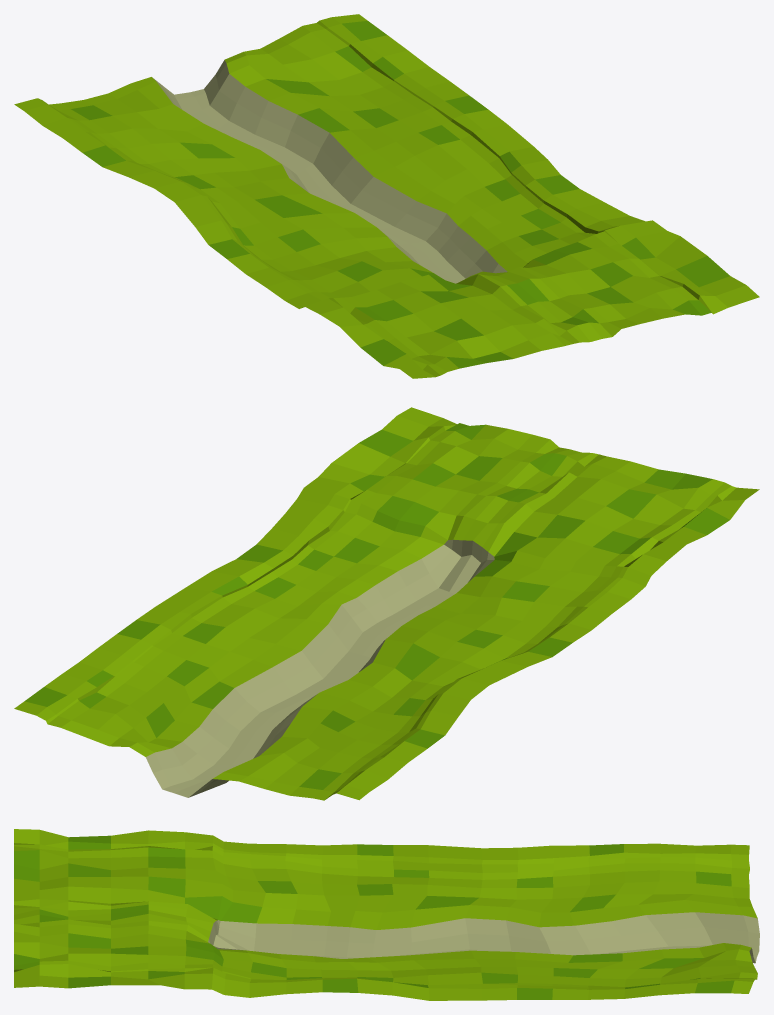
The model's file is TerrainEnd.fbx.
3 renders of one model, top to bottom at view 1: azimuth 30°, elevation 25°; view 2: azimuth 150°, elevation 25°; view 3: azimuth 270°, elevation 25°, orthographic. The views are drawn at different scales.
Visible parts, largest first — view 1: TerrainEnd; view 2: TerrainEnd; view 3: TerrainEnd.
Boxes of the visible parts, x1,y1,x2,y2 form: TerrainEnd: [14, 14, 759, 378]; TerrainEnd: [14, 407, 759, 800]; TerrainEnd: [14, 829, 759, 1000].
Size of the model in its own units: 25.08 by 3.63 by 50.4.
